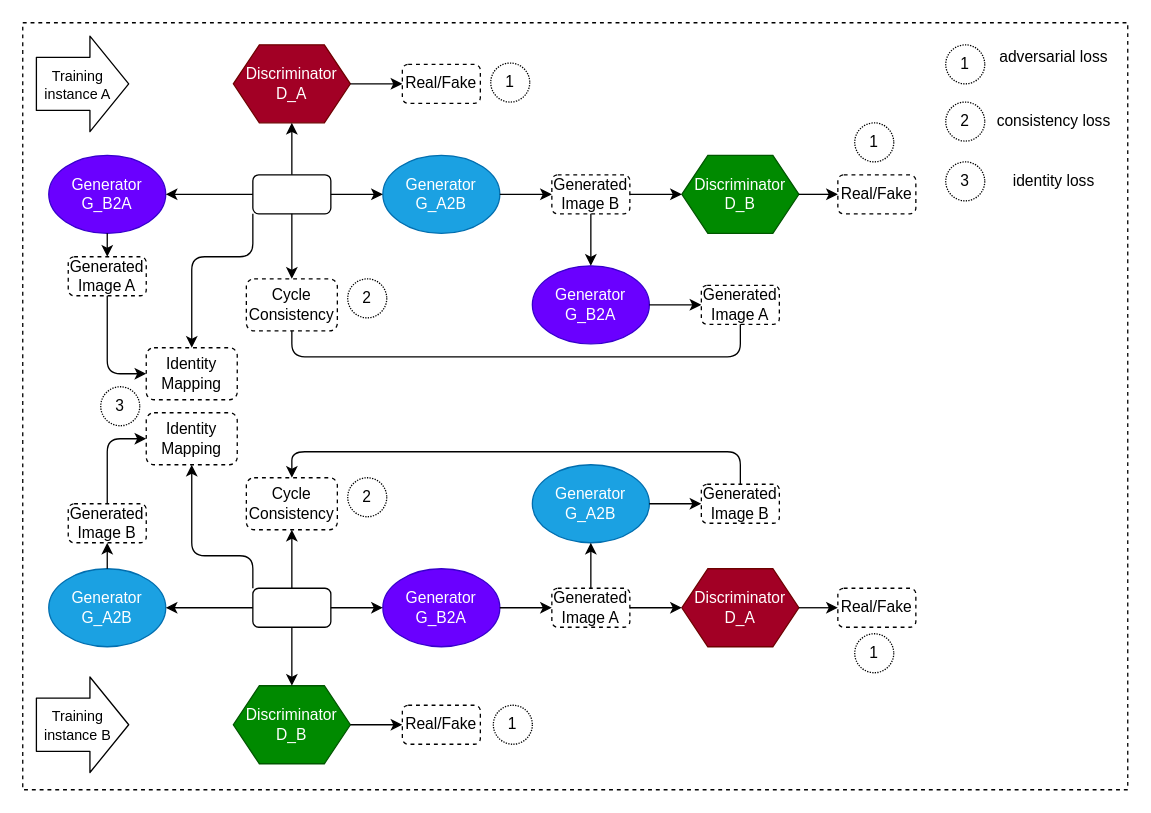
This 1151x813 diagram has some shape labels left out. Each missing label, with the centre of its shape:
"Real Image A" goes at point 291,194.
"Real Image B" goes at point 291,607.
